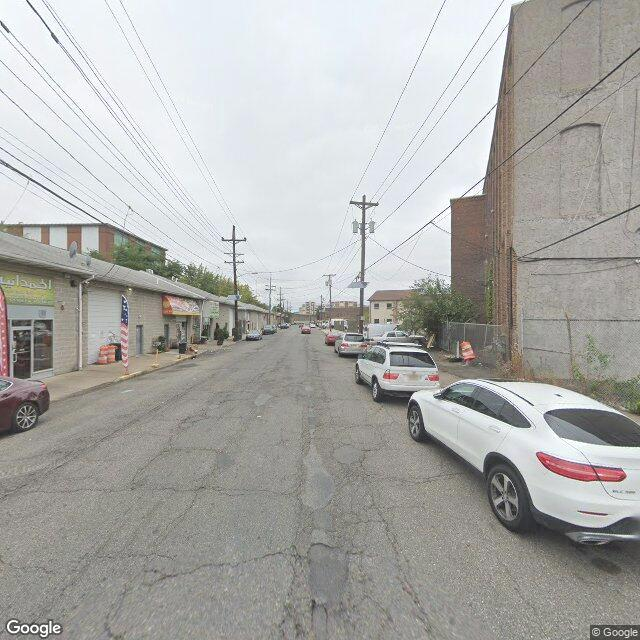pothole: (301, 593, 333, 618)
